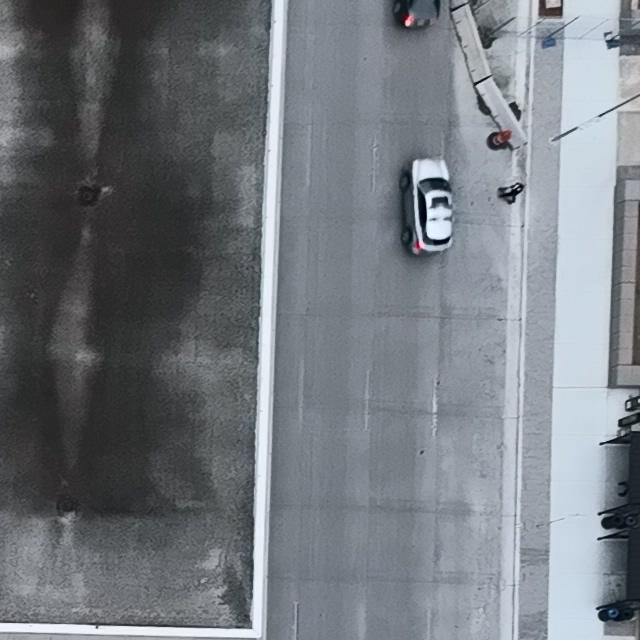car: (399, 159, 455, 257), (392, 0, 439, 29)
